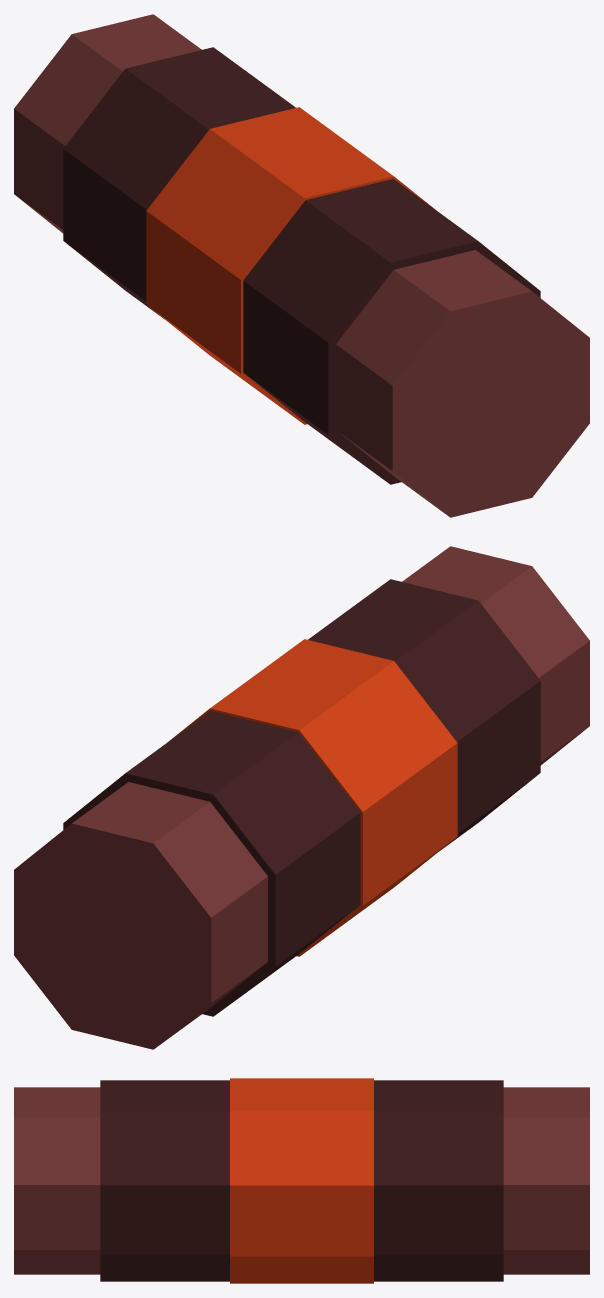
The model's file is ce_ammo2_fuel30_inc_a.obj.
3 renders of one model, top to bottom at view 1: azimuth 30°, elevation 25°; view 2: azimuth 150°, elevation 25°; view 3: azimuth 270°, elevation 25°, orthographic. The views are drawn at different scales.
Parts seen in each view (by area): view 1: ce_ammo2_fuel30_inc_a_0, ce_ammo2_fuel30_inc_a_2, ce_ammo2_fuel30_inc_a_1, ce_ammo2_fuel30_inc_a_3, ce_ammo2_fuel30_inc_a_4; view 2: ce_ammo2_fuel30_inc_a_4, ce_ammo2_fuel30_inc_a_2, ce_ammo2_fuel30_inc_a_3, ce_ammo2_fuel30_inc_a_1, ce_ammo2_fuel30_inc_a_0; view 3: ce_ammo2_fuel30_inc_a_2, ce_ammo2_fuel30_inc_a_1, ce_ammo2_fuel30_inc_a_3, ce_ammo2_fuel30_inc_a_0, ce_ammo2_fuel30_inc_a_4.
Boxes of the visible parts, x1,y1,x2,y2 form: ce_ammo2_fuel30_inc_a_0: [336, 250, 589, 517]; ce_ammo2_fuel30_inc_a_2: [146, 107, 433, 424]; ce_ammo2_fuel30_inc_a_1: [243, 179, 540, 484]; ce_ammo2_fuel30_inc_a_3: [63, 47, 295, 319]; ce_ammo2_fuel30_inc_a_4: [14, 14, 201, 233]; ce_ammo2_fuel30_inc_a_4: [14, 782, 267, 1049]; ce_ammo2_fuel30_inc_a_2: [170, 639, 457, 956]; ce_ammo2_fuel30_inc_a_3: [63, 711, 360, 1016]; ce_ammo2_fuel30_inc_a_1: [308, 579, 540, 851]; ce_ammo2_fuel30_inc_a_0: [402, 546, 589, 765]; ce_ammo2_fuel30_inc_a_2: [230, 1078, 373, 1283]; ce_ammo2_fuel30_inc_a_1: [100, 1080, 229, 1281]; ce_ammo2_fuel30_inc_a_3: [374, 1080, 503, 1281]; ce_ammo2_fuel30_inc_a_0: [14, 1087, 100, 1274]; ce_ammo2_fuel30_inc_a_4: [503, 1087, 589, 1274].
Bounding box in the file's own units: 0.132 × 0.132 × 0.4.
